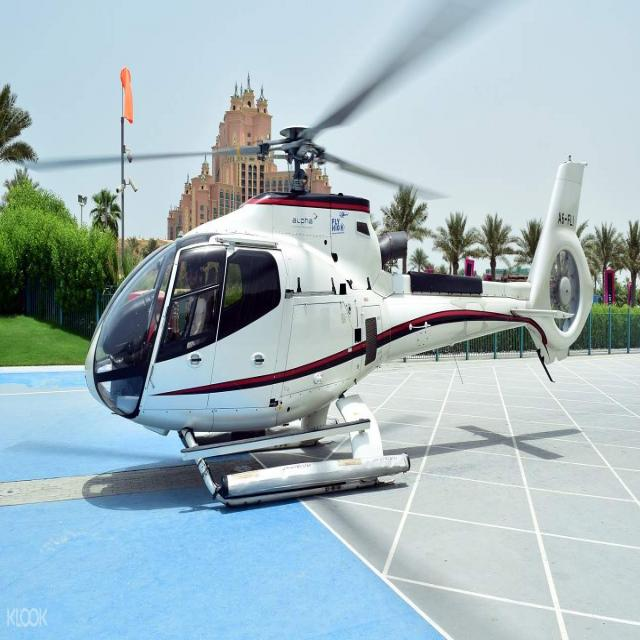helicopter: (78, 84, 600, 522)
